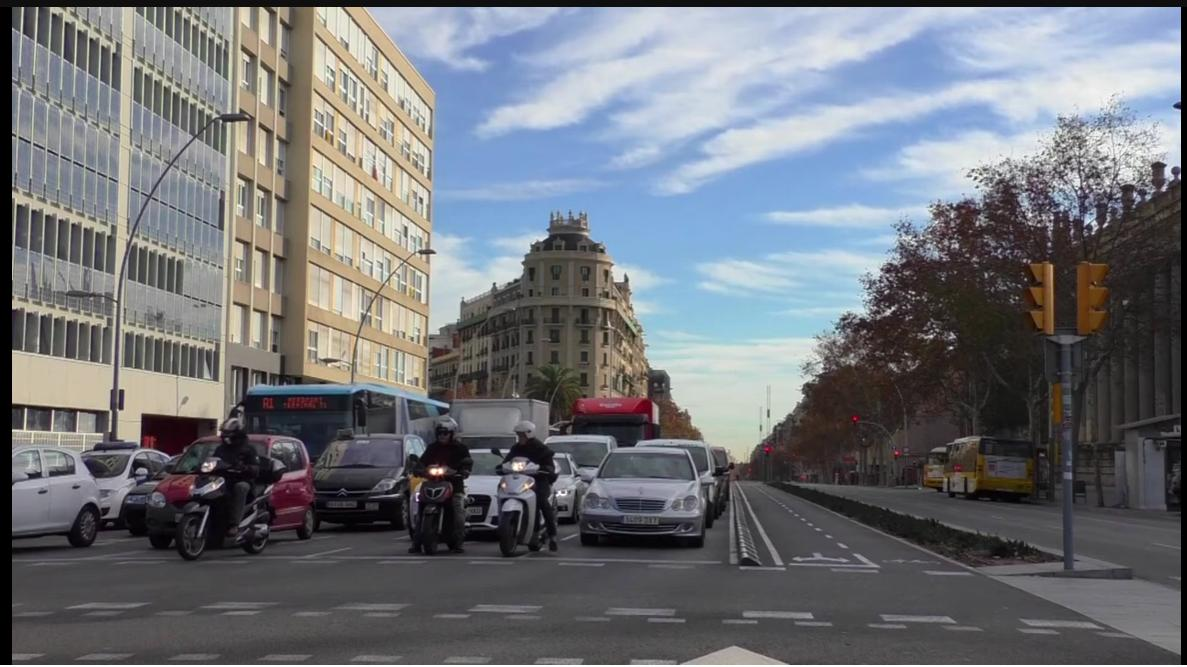bus: (243, 363, 443, 436), (583, 370, 675, 428)
car: (617, 439, 701, 533), (664, 427, 711, 493), (119, 465, 153, 540), (161, 455, 200, 498), (710, 439, 736, 502)
motorcycle: (187, 445, 290, 557), (490, 446, 581, 549), (404, 416, 473, 549)
van: (469, 387, 563, 427), (84, 427, 161, 475)
